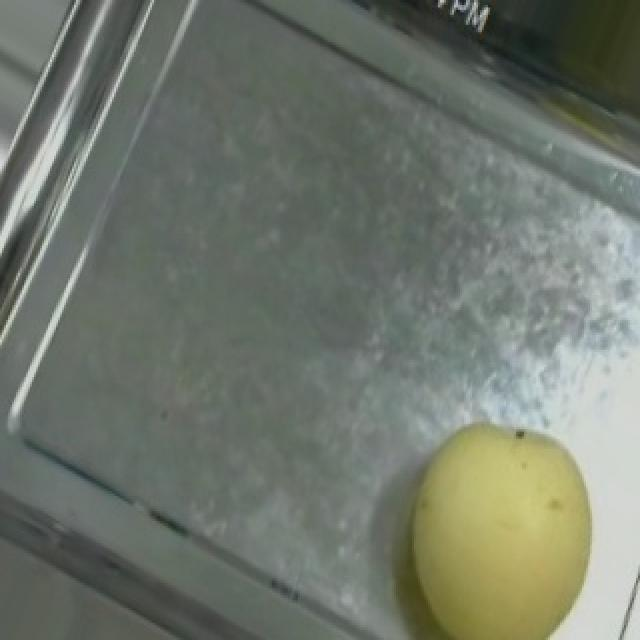Fruit: (362, 387, 634, 640)
